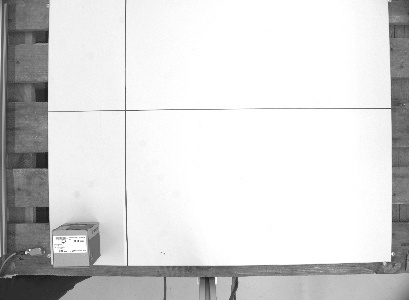b7: (49, 219, 101, 268)
